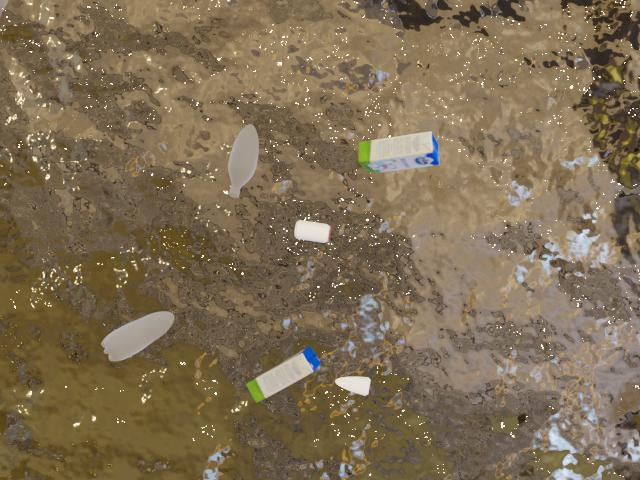Metal: (287, 208, 340, 251), (337, 372, 381, 402)
Plastic: (210, 116, 284, 206), (98, 294, 183, 369)
Trash: (233, 339, 320, 415), (356, 119, 443, 185)
